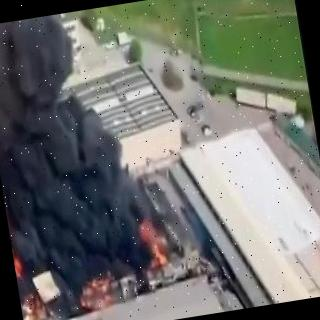smoke: (0, 5, 145, 216), (32, 203, 150, 320)
